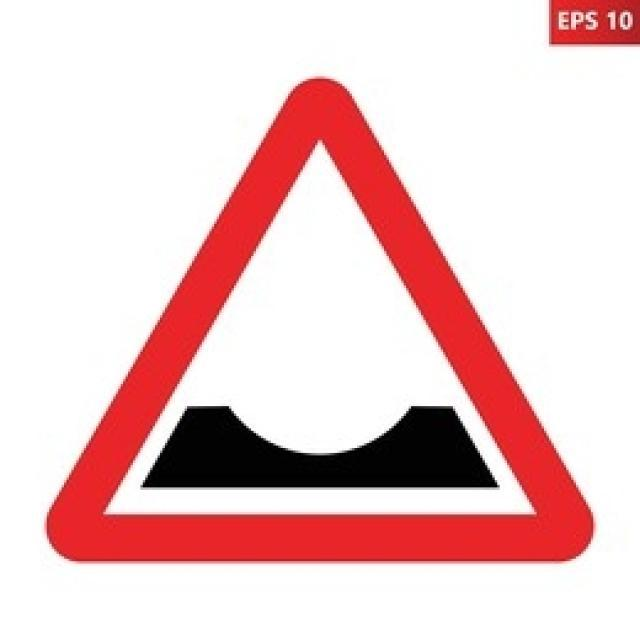dangerous dip: (37, 61, 607, 597)
